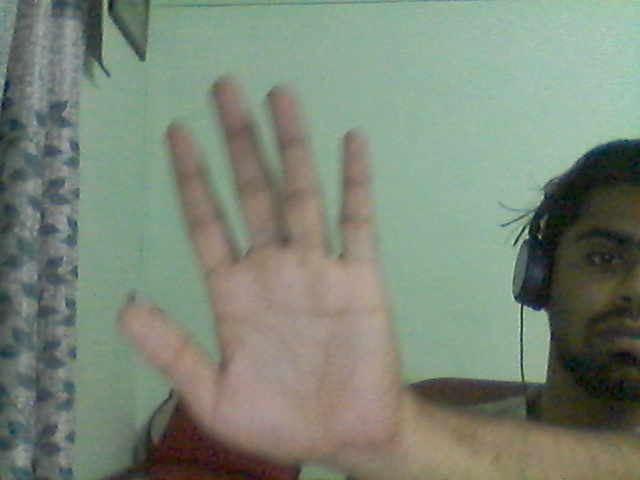Hello: (96, 56, 421, 474)
